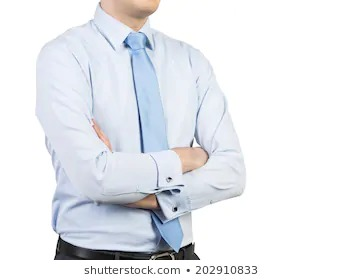F_belt: (52, 237, 206, 261)
F_shirt: (31, 2, 247, 250)
F_tie: (119, 32, 185, 252)
